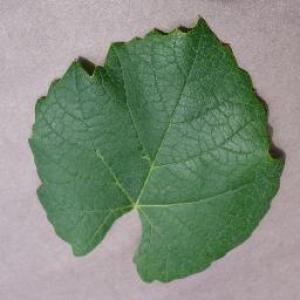Folha: (27, 15, 285, 282)
